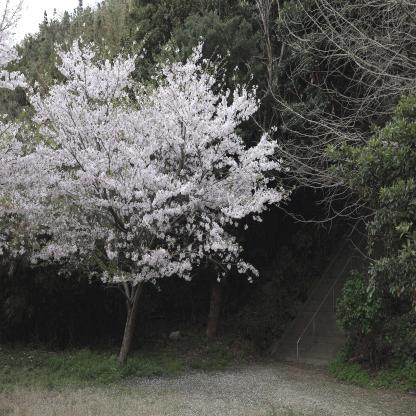Someiyoshino: (0, 1, 289, 289)
